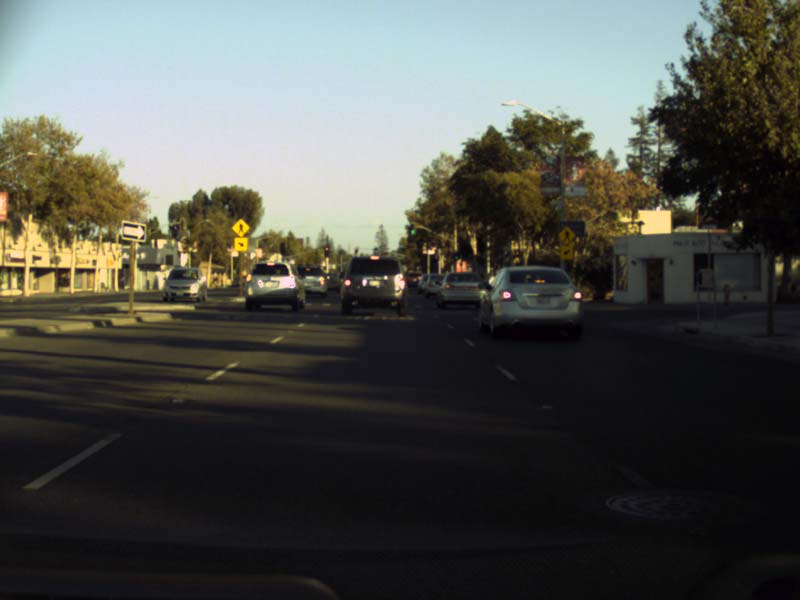Green: (409, 221, 416, 237), (452, 251, 459, 259), (373, 246, 377, 254)
Red: (324, 247, 329, 257)
